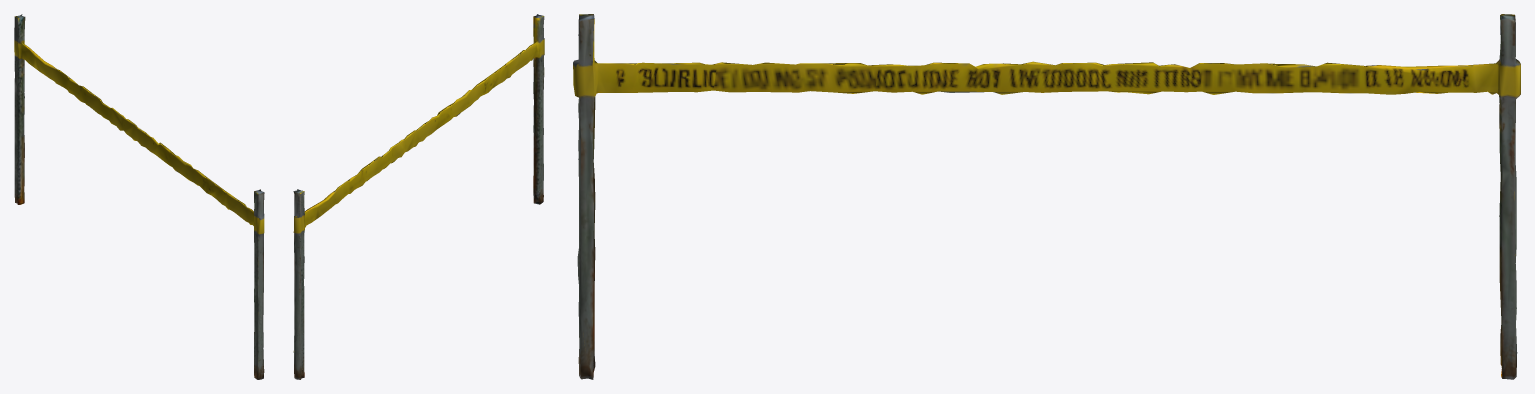
File: police_line.glb
3 views of the same model, side by side, from view 1: azimuth 30°, elevation 25°; view 2: azimuth 150°, elevation 25°; view 3: azimuth 270°, elevation 25° (orthographic). The views are drawn at different scales.
Parts seen in each view (by area): view 1: tripo_node_ffe1078d; view 2: tripo_node_ffe1078d; view 3: tripo_node_ffe1078d.
Part boxes in pixels (box(x1,y1,x2,y2)): tripo_node_ffe1078d: box(14, 14, 264, 379); tripo_node_ffe1078d: box(293, 14, 544, 379); tripo_node_ffe1078d: box(573, 14, 1520, 379).
Size of the model in its own units: 1.92 by 41.94 by 100.
1 material, 1 textured.
